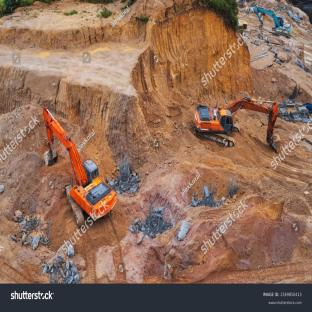ExcavationMachinery: (28, 105, 118, 224), (187, 92, 297, 153)
